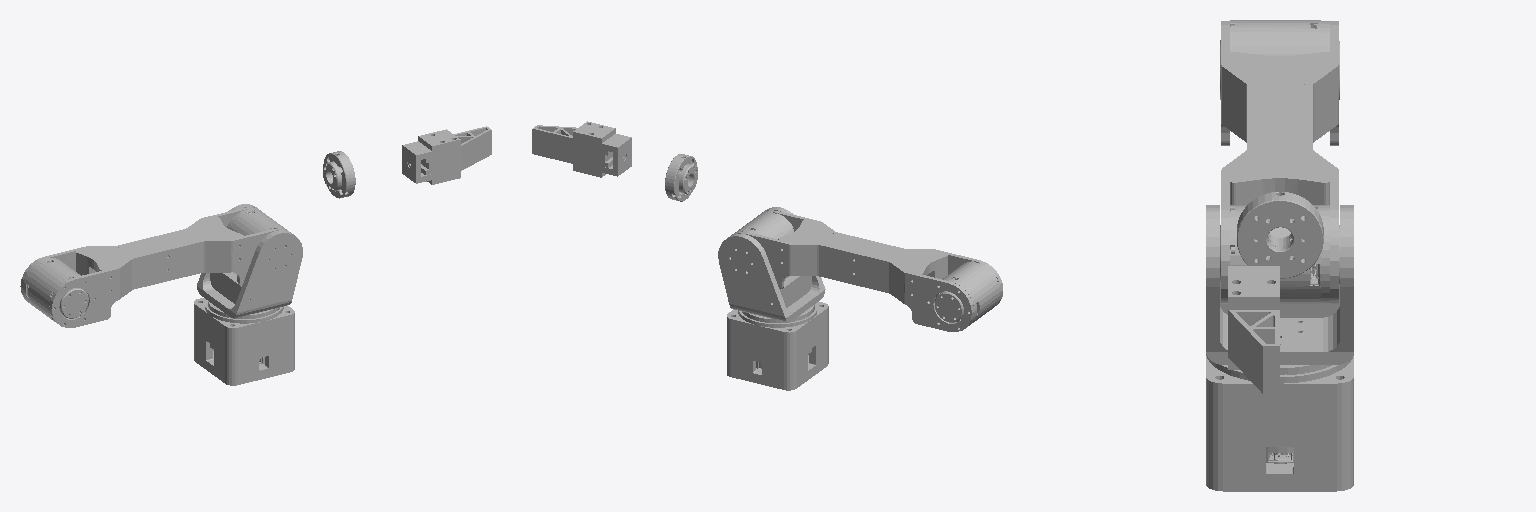
robot.urdf — rars01:
<?xml version='1.0' encoding='utf-8'?>
<robot name="rars01">
  <link
    name="base_link">
    <inertial>
      <origin
        xyz="0.00000121 0.00002671 0.03970191"
        rpy="0 0 0" />
      <mass
        value="0.70734477" />
      <inertia
        ixx="0.00062372"
        ixy="0.00000008"
        ixz="0.00000008"
        iyy="0.00062088"
        iyz="-0.00000053"
        izz="0.00064203" />
    </inertial>
    <visual>
      <origin
        xyz="0 0 0"
        rpy="0 0 0" />
      <geometry>
        <mesh
          filename="package://rars01_description/meshes/base_link.STL" />
      </geometry>
      <material
        name="">
        <color
          rgba="0.752941176470588 0.752941176470588 0.752941176470588 1" />
      </material>
    </visual>
    <collision>
      <origin
        xyz="0 0 0"
        rpy="0 0 0" />
      <geometry>
        <mesh
          filename="package://rars01_description/meshes/base_link.STL" />
      </geometry>
    </collision>
  </link>
  <link
    name="link1_m0">
    <inertial>
      <origin
        xyz="0.00368283 0.00000000 0.03676353"
        rpy="0 0 0" />
      <mass
        value="0.15406327" />
      <inertia
        ixx="0.00025029"
        ixy="0.00000000"
        ixz="0.00002971"
        iyy="0.00016746"
        iyz="0.00000000"
        izz="0.00021037" />
    </inertial>
    <visual>
      <origin
        xyz="0 0 0"
        rpy="0 0 0" />
      <geometry>
        <mesh
          filename="package://rars01_description/meshes/link1_m0.STL" />
      </geometry>
      <material
        name="">
        <color
          rgba="0.752941176470588 0.752941176470588 0.752941176470588 1" />
      </material>
    </visual>
    <collision>
      <origin
        xyz="0 0 0"
        rpy="0 0 0" />
      <geometry>
        <mesh
          filename="package://rars01_description/meshes/link1_m0.STL" />
      </geometry>
    </collision>
  </link>
  <joint
    name="joint1"
    type="revolute">
    <origin
      xyz="0 0 0.0643"
      rpy="0 0 0" />
    <parent
      link="base_link" />
    <child
      link="link1_m0" />
    <axis
      xyz="0 0 1" />
    <limit
      lower="-2.8"
      upper="2.8"
      effort="27"
      velocity="10" />
  </joint>
  <link
    name="link2_m1">
    <inertial>
      <origin
        xyz="-0.12500120 0.02752118 0.00183306"
        rpy="0 0 0" />
      <mass
        value="1.05816176" />
      <inertia
        ixx="0.00055358"
        ixy="-0.00000002"
        ixz="0.00000016"
        iyy="0.01413546"
        iyz="0.00000332"
        izz="0.01424834" />
    </inertial>
    <visual>
      <origin
        xyz="0 0 0"
        rpy="0 0 0" />
      <geometry>
        <mesh
          filename="package://rars01_description/meshes/link2_m1.STL" />
      </geometry>
      <material
        name="">
        <color
          rgba="0.752941176470588 0.752941176470588 0.752941176470588 1" />
      </material>
    </visual>
    <collision>
      <origin
        xyz="0 0 0"
        rpy="0 0 0" />
      <geometry>
        <mesh
          filename="package://rars01_description/meshes/link2_m1.STL" />
      </geometry>
    </collision>
  </link>
  <joint
    name="joint2"
    type="revolute">
    <origin
      xyz="0.02 -0.029675 0.075"
      rpy="0 0 0" />
    <parent
      link="link1_m0" />
    <child
      link="link2_m1" />
    <axis
      xyz="0 1 0" />
    <limit
      lower="0"
      upper="3.6"
      effort="27"
      velocity="10" />
  </joint>
  <link
    name="link2_m2">
    <inertial>
      <origin
        xyz="0.16246346 0.02859090 0.05711439"
        rpy="0 0 0" />
      <mass
        value="0.67600000" />
      <inertia
        ixx="0.00050678"
        ixy="-0.00005166"
        ixz="0.00018128"
        iyy="0.00525458"
        iyz="-0.00000039"
        izz="0.00532444" />
    </inertial>
    <visual>
      <origin
        xyz="0 0 0"
        rpy="0 0 0" />
      <geometry>
        <mesh
          filename="package://rars01_description/meshes/link2_m2.STL" />
      </geometry>
      <material
        name="">
        <color
          rgba="0.752941176470588 0.752941176470588 0.752941176470588 1" />
      </material>
    </visual>
    <collision>
      <origin
        xyz="0 0 0"
        rpy="0 0 0" />
      <geometry>
        <mesh
          filename="package://rars01_description/meshes/link2_m2.STL" />
      </geometry>
    </collision>
  </link>
  <joint
    name="joint3"
    type="revolute">
    <origin
      xyz="-0.250000000000001 0 0"
      rpy="0 0 0" />
    <parent
      link="link2_m1" />
    <child
      link="link2_m2" />
    <axis
      xyz="0 -1 0" />
    <limit
      lower="0"
      upper="3.14"
      effort="27"
      velocity="10" />
  </joint>
  <link
    name="link_3_m3">
    <inertial>
      <origin
        xyz="0.06982672 0.02599104 0.06198016"
        rpy="0 0 0" />
      <mass
        value="0.40800000" />
      <inertia
        ixx="0.00034942"
        ixy="-0.00000032"
        ixz="0.00017848"
        iyy="0.00054836"
        iyz="-0.00000075"
        izz="0.00047248" />
    </inertial>
    <visual>
      <origin
        xyz="0 0 0"
        rpy="0 0 0" />
      <geometry>
        <mesh
          filename="package://rars01_description/meshes/link_3_m3.STL" />
      </geometry>
      <material
        name="">
        <color
          rgba="0.752941176470588 0.752941176470588 0.752941176470588 1" />
      </material>
    </visual>
    <collision>
      <origin
        xyz="0 0 0"
        rpy="0 0 0" />
      <geometry>
        <mesh
          filename="package://rars01_description/meshes/link_3_m3.STL" />
      </geometry>
    </collision>
  </link>
  <joint
    name="joint4"
    type="revolute">
    <origin
      xyz="0.232950000000001 0.00377499999999996 0.0570710741093906"
      rpy="0 0 0" />
    <parent
      link="link2_m2" />
    <child
      link="link_3_m3" />
    <axis
      xyz="0 -1 0" />
    <limit
      lower="-2.0"
      upper="1.4"
      effort="7"
      velocity="10" />
  </joint>
  <link
    name="link_4_m4">
    <inertial>
      <origin
        xyz="0.00032344 0.00000144 -0.04911762"
        rpy="0 0 0" />
      <mass
        value="0.32605000" />
      <inertia
        ixx="0.00014804"
        ixy="0.00000000"
        ixz="0.00000943"
        iyy="0.00014371"
        iyz="0.00000008"
        izz="0.00013050" />
    </inertial>
    <visual>
      <origin
        xyz="0 0 0"
        rpy="0 0 0" />
      <geometry>
        <mesh
          filename="package://rars01_description/meshes/link_4_m4.STL" />
      </geometry>
      <material
        name="">
        <color
          rgba="0.752941176470588 0.752941176470588 0.752941176470588 1" />
      </material>
    </visual>
    <collision>
      <origin
        xyz="0 0 0"
        rpy="0 0 0" />
      <geometry>
        <mesh
          filename="package://rars01_description/meshes/link_4_m4.STL" />
      </geometry>
    </collision>
  </link>
  <joint
    name="joint5"
    type="revolute">
    <origin
      xyz="0.0798112070633211 0.0260499999999993 0.0499999999999984"
      rpy="0 0 0" />
    <parent
      link="link_3_m3" />
    <child
      link="link_4_m4" />
    <axis
      xyz="0 0 -1" />
    <limit
      lower="-1.57"
      upper="1.57"
      effort="7"
      velocity="10" />
  </joint>
  <link
    name="link_5_m5">
    <inertial>
      <origin
        xyz="0.01065087 0.00000000 0.00000333"
        rpy="0 0 0" />
      <mass
        value="0.02620000" />
      <inertia
        ixx="0.00000825"
        ixy="0.00000000"
        ixz="0.00000000"
        iyy="0.00000464"
        iyz="0.00000000"
        izz="0.00000475" />
    </inertial>
    <visual>
      <origin
        xyz="0 0 0"
        rpy="0 0 0" />
      <geometry>
        <mesh
          filename="package://rars01_description/meshes/link_5_m5.STL" />
      </geometry>
      <material
        name="">
        <color
          rgba="0.752941176470588 0.752941176470588 0.752941176470588 1" />
      </material>
    </visual>
    <collision>
      <origin
        xyz="0 0 0"
        rpy="0 0 0" />
      <geometry>
        <mesh
          filename="package://rars01_description/meshes/link_5_m5.STL" />
      </geometry>
    </collision>
  </link>
  <joint
    name="joint6"
    type="revolute">
    <origin
      xyz="0.0235 0 -0.049"
      rpy="0 0 0" />
    <parent
      link="link_4_m4" />
    <child
      link="link_5_m5" />
    <axis
      xyz="1 0 0" />
    <limit
      lower="-2"
      upper="2"
      effort="7"
      velocity="10" />
  </joint>
  <link name="End_link">
    <inertial>
      <origin xyz="-0.1358776 -0.00046489 0.00946022" rpy="0 0 0" />
      <mass value="0.60527119" />
      <inertia ixx="0.00114231" ixy="-7.66E-06" ixz="1.053E-05" iyy="0.00073974" iyz="-6.32E-06" izz="0.00104976" />
    </inertial>
    <visual>
      <origin xyz="0 0 0" rpy="0 0 0" />
      <geometry>
        <mesh filename="package://rars01_description/meshes/End_link.STL" />
      </geometry>
      <material name="">
        <color rgba="0.75294 0.75294 0.75294 1" />
      </material>
    </visual>
    <collision>
      <origin xyz="0 0 0" rpy="0 0 0" />
      <geometry>
        <mesh filename="package://rars01_description/meshes/End_link.STL" />
      </geometry>
    </collision>
  </link>
  <joint name="joint_end" type="fixed">
    <origin xyz="0.195000000000023 0 0" rpy="0 0 0" />
    <parent link="link_5_m5" />
    <child link="End_link" />
  </joint>
  <link name="gripper_left">
    <inertial>
      <origin xyz="-0.03223739 0.01428588 6.15E-06" rpy="0 0 0" />
      <mass value="0.08529926" />
      <inertia ixx="1.866E-05" ixy="-3.18E-06" ixz="0" iyy="6.04E-05" iyz="0" izz="5.513E-05" />
    </inertial>
    <visual>
      <origin xyz="0 0 0" rpy="0 0 0" />
      <geometry>
        <mesh filename="package://rars01_description/meshes/gripper_left.STL" />
      </geometry>
      <material name="">
        <color rgba="0.75294 0.75294 0.75294 1" />
      </material>
    </visual>
    <collision>
      <origin xyz="0 0 0" rpy="0 0 0" />
      <geometry>
        <mesh filename="package://rars01_description/meshes/gripper_left.STL" />
      </geometry>
    </collision>
  </link>
  <joint name="gripper_left_joint" type="prismatic">
    <origin xyz="-0.0375 0 0" rpy="0 0 0" />
    <parent link="End_link" />
    <child link="gripper_left" />
    <axis xyz="0 1 0" />
    <limit lower="0" upper="0.05" effort="3" velocity="10" />
  </joint>
  <link name="gripper_right">
    <inertial>
      <origin xyz="-0.03223739 -0.01428588 6.15E-06" rpy="0 0 0" />
      <mass value="0.08529926" />
      <inertia ixx="1.866E-05" ixy="3.18E-06" ixz="0" iyy="6.04E-05" iyz="0" izz="5.513E-05" />
    </inertial>
    <visual>
      <origin xyz="0 0 0" rpy="0 0 0" />
      <geometry>
        <mesh filename="package://rars01_description/meshes/gripper_right.STL" />
      </geometry>
      <material name="">
        <color rgba="0.75294 0.75294 0.75294 1" />
      </material>
    </visual>
    <collision>
      <origin xyz="0 0 0" rpy="0 0 0" />
      <geometry>
        <mesh filename="package://rars01_description/meshes/gripper_right.STL" />
      </geometry>
    </collision>
  </link>
  <joint name="gripper_right_joint" type="prismatic">
    <origin xyz="-0.0375000000000192 0 0" rpy="0 0 0" />
    <parent link="End_link" />
    <child link="gripper_right" />
    <axis xyz="0 -1 0" />
    <limit lower="0" upper="0.05" effort="3" velocity="10" />
    <mimic joint="gripper_left_joint" multiplier="1" offset="0" />
  </joint>
</robot>

--- Render facts (derived) ---
3 views of the same robot in one strip: view 1: azimuth 30°, elevation 25°; view 2: azimuth 150°, elevation 25°; view 3: azimuth 270°, elevation 25° (orthographic).
Model rars01 with 10 links and 9 joints (6 revolute, 2 prismatic, 1 fixed), rooted at base_link, posed all joints at 0.
Visible links, largest first — view 1: link2_m1, base_link, link1_m0, gripper_right, link_5_m5; view 2: link2_m1, base_link, link1_m0, gripper_right, link_5_m5; view 3: link2_m1, base_link, link1_m0, gripper_right, link_5_m5.
Link boxes in pixels (left/top/right/bottom): link2_m1: left=20, top=207, right=290, bottom=327; base_link: left=194, top=298, right=294, bottom=385; link1_m0: left=197, top=204, right=302, bottom=318; gripper_right: left=402, top=126, right=491, bottom=184; link_5_m5: left=323, top=151, right=355, bottom=198; link2_m1: left=731, top=210, right=1002, bottom=331; base_link: left=727, top=302, right=828, bottom=390; link1_m0: left=718, top=207, right=825, bottom=322; gripper_right: left=532, top=121, right=631, bottom=177; link_5_m5: left=665, top=154, right=697, bottom=201; link2_m1: left=1220, top=20, right=1339, bottom=303; base_link: left=1206, top=354, right=1353, bottom=491; link1_m0: left=1206, top=205, right=1353, bottom=374; gripper_right: left=1228, top=266, right=1279, bottom=393; link_5_m5: left=1237, top=192, right=1323, bottom=278.
Size in the robot's own frame: 0.5598 by 0.0852 by 0.2224 metres.
5 mesh visuals loaded from 10 distinct referenced files (5 binary STL); not drawn: 5 (reference not matched to a file when rendering).
